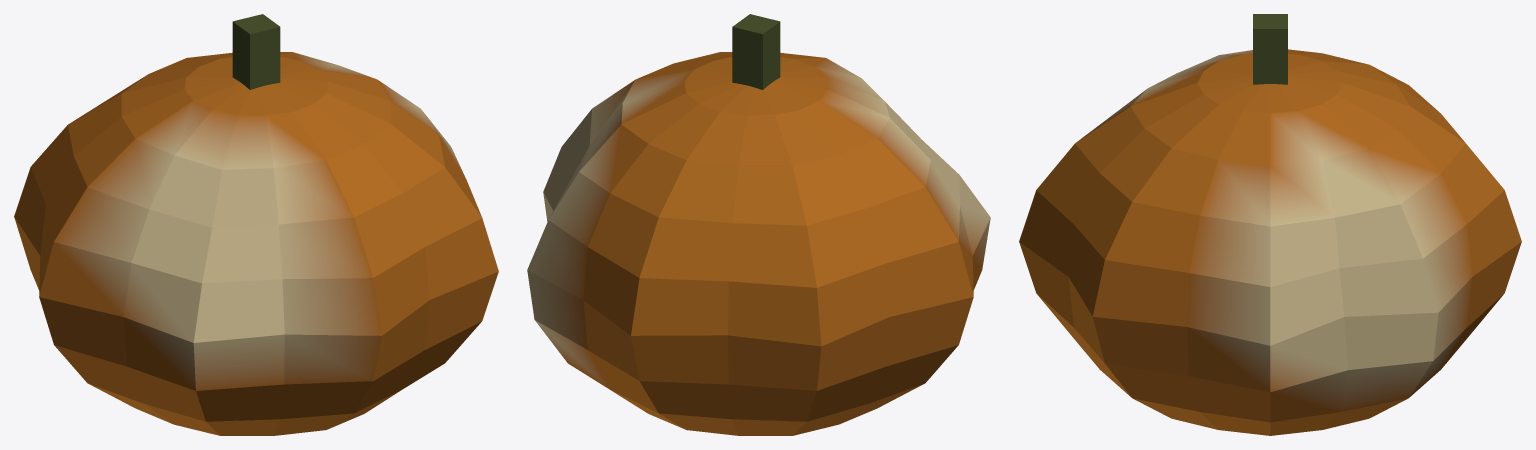
File: pumpkin_prize_medium_gnawed.glb
3 renders of one model, left to right at view 1: azimuth 30°, elevation 25°; view 2: azimuth 150°, elevation 25°; view 3: azimuth 270°, elevation 25°, orthographic.
Visible parts, largest first — view 1: Pumpkin; view 2: Pumpkin; view 3: Pumpkin.
Part boxes in pixels (bbox=[...]): Pumpkin: bbox=[14, 14, 498, 435]; Pumpkin: bbox=[527, 14, 990, 435]; Pumpkin: bbox=[1019, 14, 1521, 435].
Bounding box in the file's own units: 1.19 × 1.02 × 1.2.
